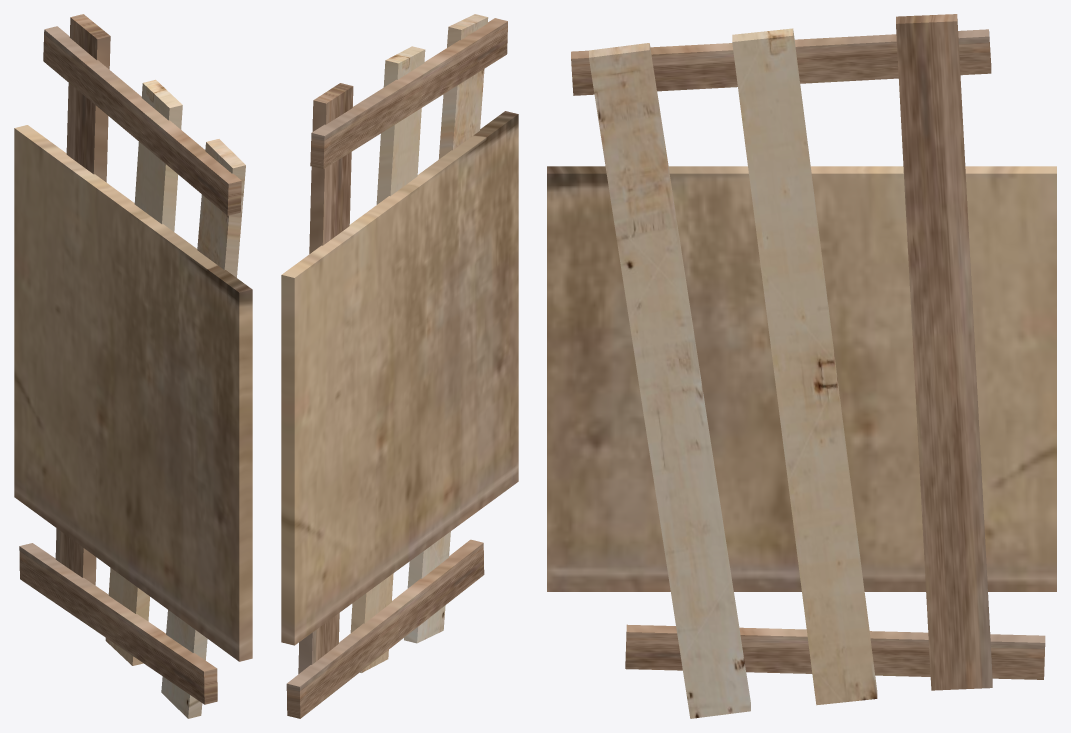
File: boardedwindow2.fbx
3 views of the same model, side by side, from view 1: azimuth 30°, elevation 25°; view 2: azimuth 150°, elevation 25°; view 3: azimuth 270°, elevation 25° (orthographic). The views are drawn at different scales.
Parts seen in each view (by area): view 1: Boarded Window 2; view 2: Boarded Window 2; view 3: Boarded Window 2.
Part boxes in pixels (bbox=[...]): Boarded Window 2: bbox=[14, 14, 252, 718]; Boarded Window 2: bbox=[281, 14, 518, 718]; Boarded Window 2: bbox=[547, 14, 1056, 718].
Bounding box in the file's own units: 1.71 × 39.8 × 26.35.
